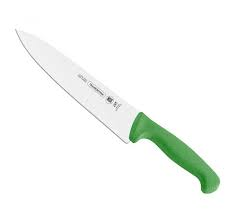kuchillu: (12, 26, 221, 195)
